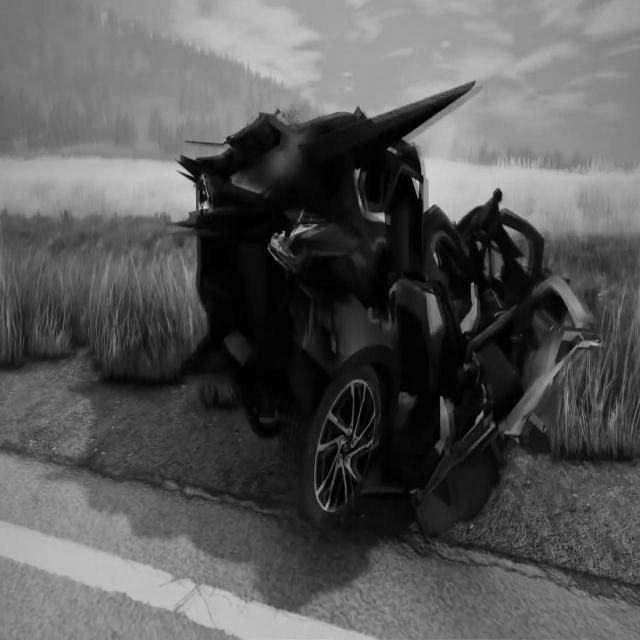accident: (176, 72, 597, 568)
